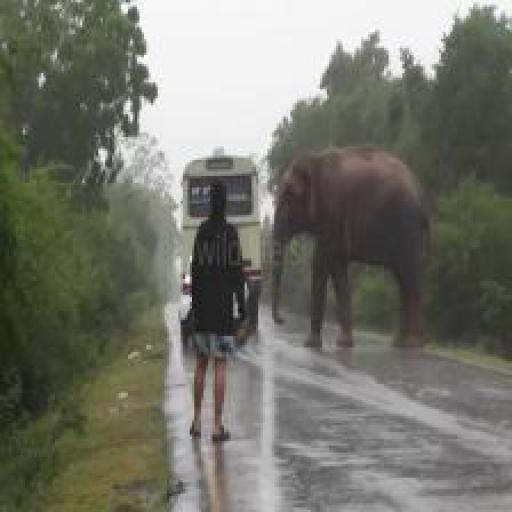Elephant: (263, 149, 440, 354)
